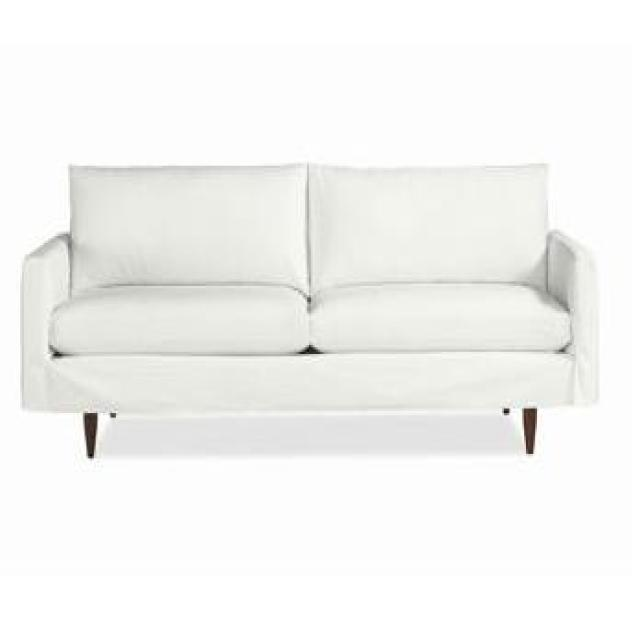sofa: (19, 162, 600, 456)
